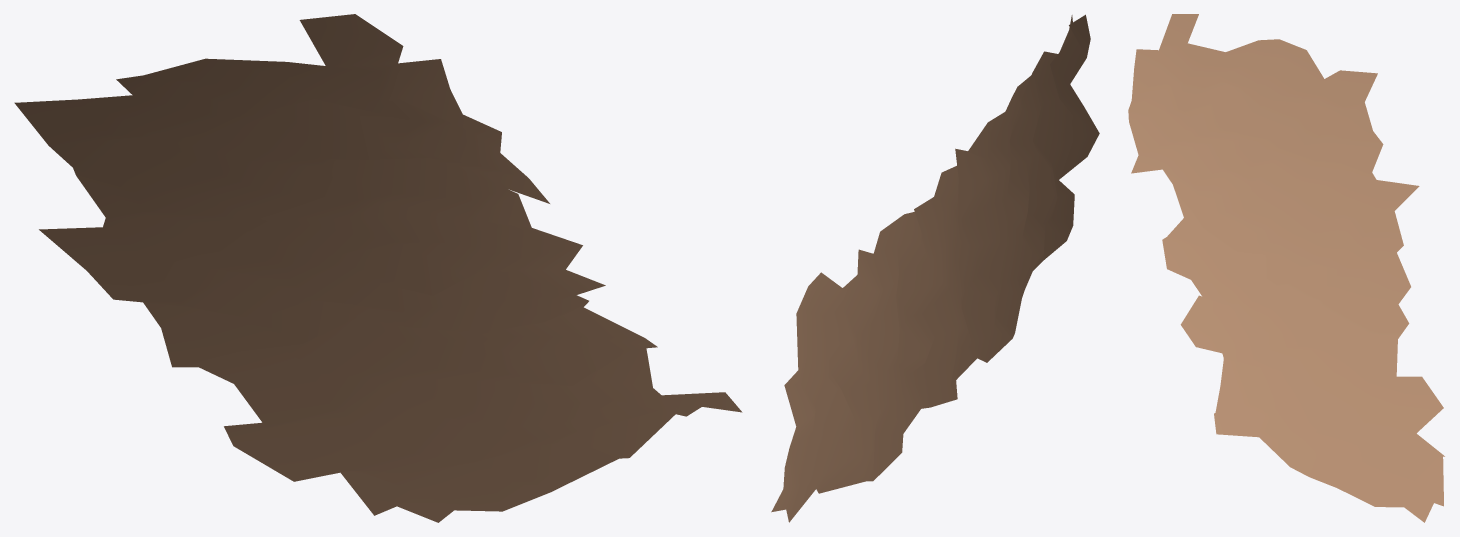
Rendered from pottery_fragment_057.obj.
3 renders of one model, left to right at view 1: azimuth 30°, elevation 25°; view 2: azimuth 150°, elevation 25°; view 3: azimuth 270°, elevation 25°, orthographic. The views are drawn at different scales.
Size of the model in its own units: 15.89 by 19.32 by 13.09.
